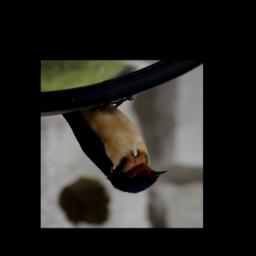Swallow: (59, 92, 168, 195)
